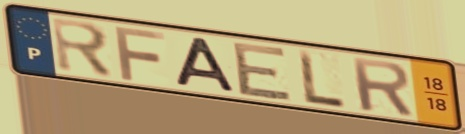A: (173, 35, 239, 95)
E: (230, 40, 295, 103)
F: (111, 23, 168, 83)
L: (295, 47, 349, 110)
R: (48, 15, 116, 81), (347, 55, 416, 118)
